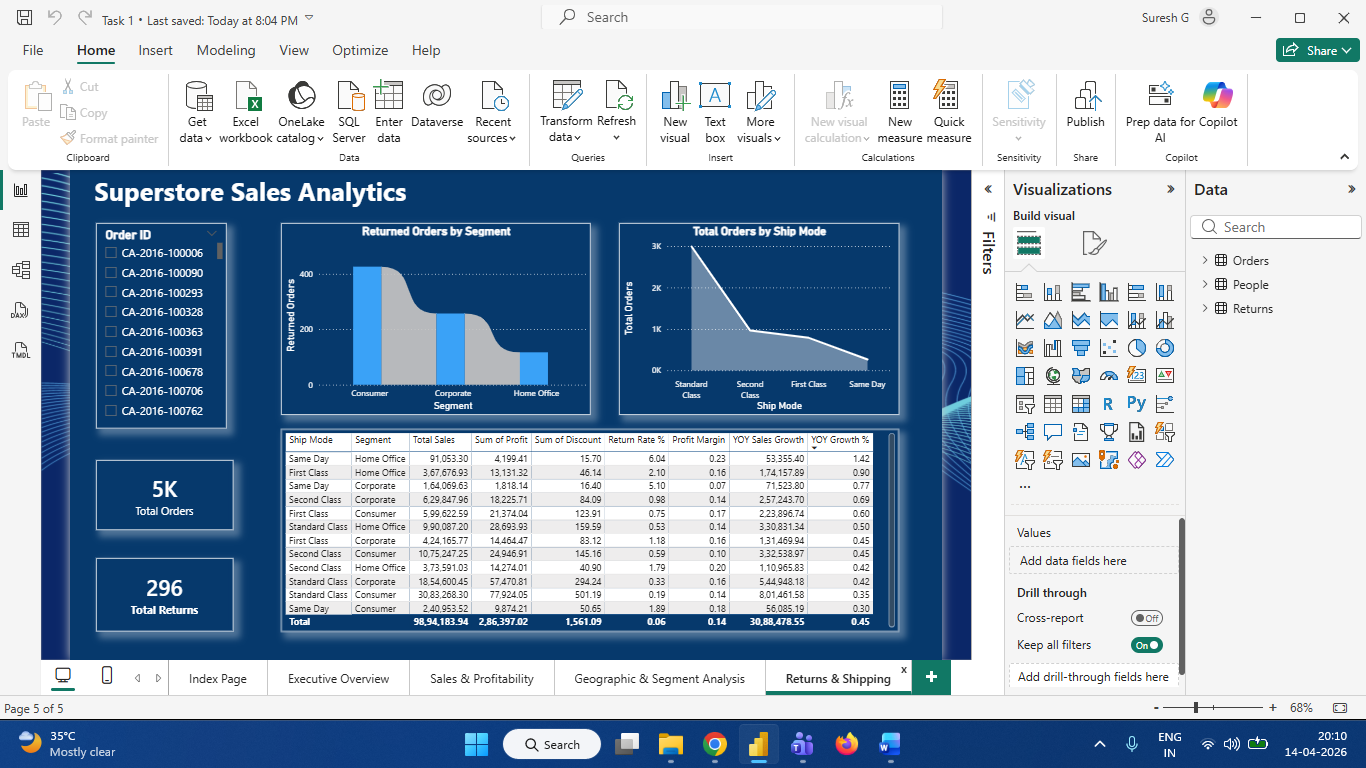

The dashboard page shown, as its layout file describes it:
{"tool":"powerbi","page":{"name":"Returns & Shipping","canvas":[1280,720],"ordinal":4},"visuals":[{"type":"textbox","box":[10.3,0,1269.6,64.7],"z":0},{"type":"tableEx","fields":{"Values":["Orders.Ship Mode","Orders.Segment","Orders.Total Sales","Sum(Orders.Profit)","Sum(Orders.Discount)","Orders.Return Rate %","Orders.Profit Margin %","Orders.YOY Sales Growth","Orders.YOY Growth %"]},"box":[310,380,908.3,298.3],"z":1000},{"type":"cardVisual","fields":{"Data":["Orders.Total Returns"]},"box":[38.3,570,201.7,108.3],"z":2000},{"type":"cardVisual","fields":{"Data":["Orders.Total Orders"]},"box":[38.3,426.7,201.7,103.3],"z":3000},{"type":"slicer","fields":{"Values":["Orders.Order ID"]},"box":[38.3,78.3,191.7,301.7],"z":4000},{"type":"ribbonChart","fields":{"Y":["Orders.Returned Orders"],"Category":["Orders.Segment"]},"box":[310,78.3,455,281.7],"z":5000},{"type":"stackedAreaChart","fields":{"Category":["Orders.Ship Mode"],"Y":["Orders.Total Orders"]},"box":[806.7,78.3,411.7,281.7],"z":6000}]}

Visuals, with their boxes on the page's 1280x720 design canvas (x1, y1, x2, y2). These are canvas units, not pixel positions in the 1366x768 screenshot, which may show the page scaled, cropped or inside an application window:
textbox: pyautogui.locateOnScreen(10, 0, 1280, 65)
tableEx - Orders.Ship Mode x Orders.Segment: pyautogui.locateOnScreen(310, 380, 1218, 678)
cardVisual - Orders.Total Returns: pyautogui.locateOnScreen(38, 570, 240, 678)
cardVisual - Orders.Total Orders: pyautogui.locateOnScreen(38, 427, 240, 530)
slicer - Orders.Order ID: pyautogui.locateOnScreen(38, 78, 230, 380)
ribbonChart - Orders.Returned Orders x Orders.Segment: pyautogui.locateOnScreen(310, 78, 765, 360)
stackedAreaChart - Orders.Ship Mode x Orders.Total Orders: pyautogui.locateOnScreen(807, 78, 1218, 360)
